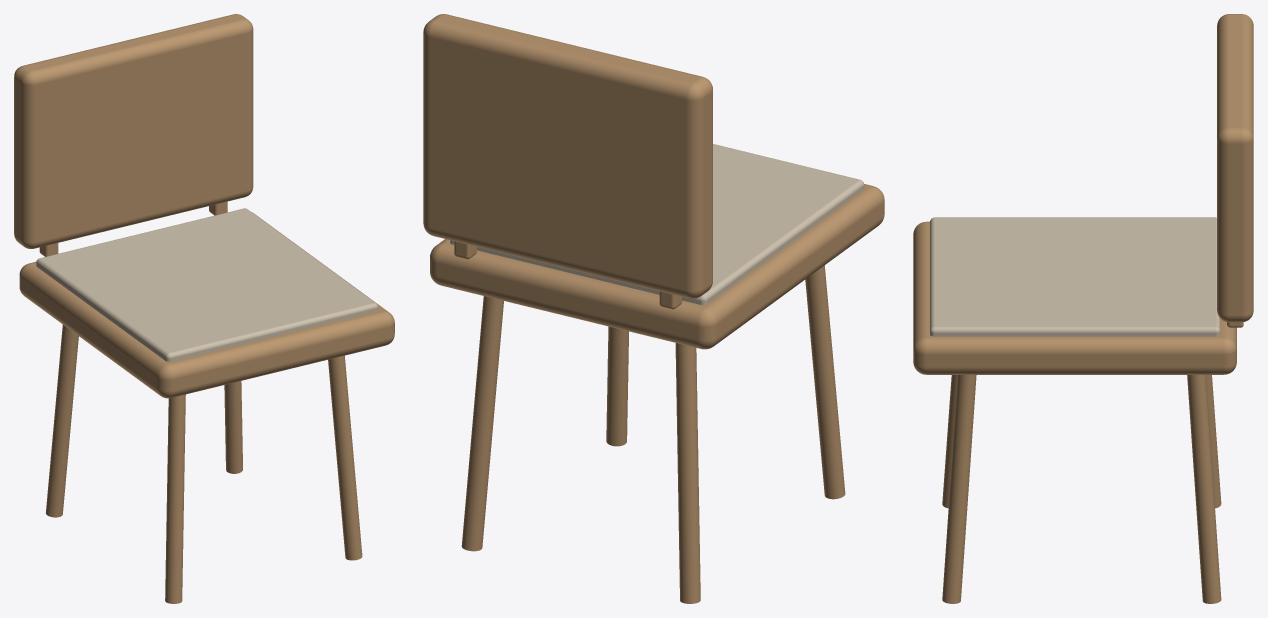
Rendered from chair-1.glb.
The picture shows the model from 3 angles, left to right: view 1: azimuth 30°, elevation 25°; view 2: azimuth 150°, elevation 25°; view 3: azimuth 270°, elevation 25°; orthographic projection. The views are drawn at different scales.
Visible parts, largest first — view 1: chair:1:archviz; view 2: chair:1:archviz; view 3: chair:1:archviz.
Part boxes in pixels (x1=…): chair:1:archviz: x1=14, y1=14, x2=394, y2=603; chair:1:archviz: x1=423, y1=14, x2=884, y2=603; chair:1:archviz: x1=913, y1=14, x2=1253, y2=603.
Bounding box in the file's own units: 0.445 × 0.7962 × 0.51.
